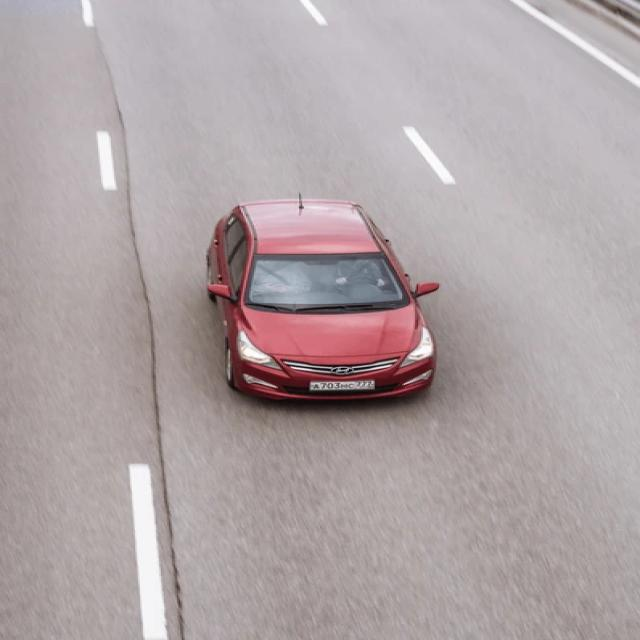hyundai: (329, 363, 354, 376)
